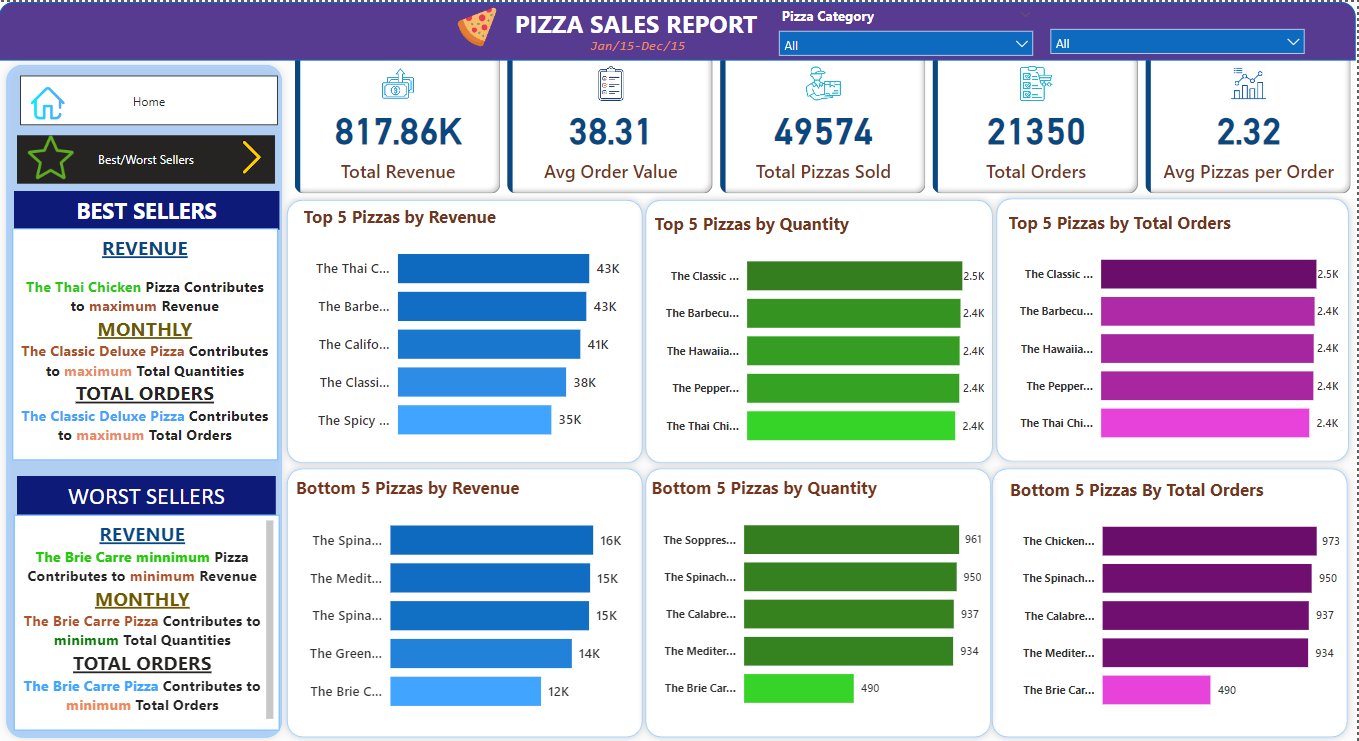

The page's visual inventory and layout, read from the dashboard file:
{"tool":"powerbi","page":{"name":"Best/Worst Sellers","canvas":[1500,820],"ordinal":1},"visuals":[{"type":"shape","box":[0,60.9,320.9,759.8],"z":0},{"type":"cardVisual","fields":{"Data":["pizza_sales.Total Revenue","pizza_sales.Avg Order Value","pizza_sales.Total Pizzas Sold","pizza_sales.Total Orders","pizza_sales.Avg Pizzas per Order"]},"box":[320.9,51.6,1178.4,166],"z":1000},{"type":"shape","box":[0,0,1499.3,64.5],"z":2000},{"type":"textbox","box":[497.9,0,413.1,49.8],"z":3000},{"type":"textbox","box":[592,33.2,171.5,31.4],"z":4000},{"type":"image","box":[477.6,0,101.4,55.3],"z":5000},{"type":"shape","box":[309.8,210.2,409.4,307],"z":6000},{"type":"textbox","box":[16.6,208.4,293.2,42.4],"z":7000},{"type":"textbox","box":[14.8,250.8,293.2,256.3],"z":8000},{"type":"textbox","box":[20.3,523.7,285.8,42.4],"z":9000},{"type":"textbox","box":[16.6,566.1,293.2,237.9],"z":10000},{"type":"slicer","fields":{"Values":["pizza_sales.pizza_category"]},"box":[852,0,300.6,60],"z":11000},{"type":"slicer","fields":{"Values":["pizza_sales.order_date.Variation.Date Hierarchy.Year","pizza_sales.order_date.Variation.Date Hierarchy.Month","pizza_sales.order_date.Variation.Date Hierarchy.Day"]},"box":[1152.6,20.3,300.6,60.9],"z":12000},{"type":"shape","box":[706.3,210.2,400.2,307],"z":13000},{"type":"shape","box":[1093.6,208.4,405.7,307],"z":14000},{"type":"shape","box":[309.8,507.1,409.4,313.5],"z":15000},{"type":"shape","box":[1089.9,507.1,409.4,313.5],"z":16000},{"type":"shape","box":[706.3,507.1,398,313.5],"z":17000},{"type":"barChart","title":"Top 5 Pizzas by Revenue ","fields":{"Category":["pizza_sales.pizza_name"],"Y":["pizza_sales.Total Revenue"]},"box":[331.9,223.1,383.6,276.6],"z":18000},{"type":"barChart","title":"Bottom 5 Pizzas by Revenue ","fields":{"Category":["pizza_sales.pizza_name"],"Y":["pizza_sales.Total Revenue"]},"box":[322.7,523.7,383.6,276.6],"z":19000},{"type":"barChart","title":"Top 5 Pizzas by Quantity","fields":{"Category":["pizza_sales.pizza_name"],"Y":["pizza_sales.Total Pizzas Sold"]},"box":[719.7,232.5,374.3,274.6],"z":20000},{"type":"barChart","title":"Bottom 5 Pizzas by Quantity","fields":{"Category":["pizza_sales.pizza_name"],"Y":["pizza_sales.Total Pizzas Sold"]},"box":[715.5,523.7,374.4,272.9],"z":21000},{"type":"barChart","title":"Top 5 Pizzas by Total Orders","fields":{"Category":["pizza_sales.pizza_name"],"Y":["pizza_sales.Total Pizzas Sold"]},"box":[1110.2,230.5,374.4,272.9],"z":22000},{"type":"barChart","title":"Bottom 5 Pizzas By Total Orders","fields":{"Category":["pizza_sales.pizza_name"],"Y":["pizza_sales.Total Pizzas Sold"]},"box":[1112,525.6,374.4,272.9],"z":23000},{"type":"pageNavigator","box":[20.3,147.5,285.8,53.5],"z":23001},{"type":"pageNavigator","box":[24,81.1,285.8,55.3],"z":23002},{"type":"image","box":[249,147.5,60.9,47.9],"z":23003},{"type":"image","box":[24,88.5,60.9,47.9],"z":23004},{"type":"image","box":[25.8,140.2,60.9,60.9],"z":23005}]}

Visuals, with their boxes in screenshot pixels (x1, y1, x2, y2), scaled from the page's 1500x820 canvas onto the 1359x741 screenshot:
shape: (left=0, top=55, right=291, bottom=740)
cardVisual - pizza_sales.Total Revenue x pizza_sales.Avg Order Value: (left=291, top=47, right=1358, bottom=197)
shape: (left=0, top=0, right=1358, bottom=58)
textbox: (left=451, top=0, right=825, bottom=45)
textbox: (left=536, top=30, right=692, bottom=58)
image: (left=433, top=0, right=525, bottom=50)
shape: (left=281, top=190, right=652, bottom=467)
textbox: (left=15, top=188, right=281, bottom=227)
textbox: (left=13, top=227, right=279, bottom=458)
textbox: (left=18, top=473, right=277, bottom=512)
textbox: (left=15, top=512, right=281, bottom=727)
slicer - pizza_sales.pizza_category: (left=772, top=0, right=1044, bottom=54)
slicer - pizza_sales.order_date.Variation.Date Hierarchy.Year x pizza_sales.order_date.Variation.Date Hierarchy.Month: (left=1044, top=18, right=1317, bottom=73)
shape: (left=640, top=190, right=1002, bottom=467)
shape: (left=991, top=188, right=1358, bottom=466)
shape: (left=281, top=458, right=652, bottom=740)
shape: (left=987, top=458, right=1358, bottom=740)
shape: (left=640, top=458, right=1000, bottom=740)
"Top 5 Pizzas by Revenue " barChart: (left=301, top=202, right=648, bottom=452)
"Bottom 5 Pizzas by Revenue " barChart: (left=292, top=473, right=640, bottom=723)
"Top 5 Pizzas by Quantity" barChart: (left=652, top=210, right=991, bottom=458)
"Bottom 5 Pizzas by Quantity" barChart: (left=648, top=473, right=987, bottom=720)
"Top 5 Pizzas by Total Orders" barChart: (left=1006, top=208, right=1345, bottom=455)
"Bottom 5 Pizzas By Total Orders" barChart: (left=1007, top=475, right=1347, bottom=722)
pageNavigator: (left=18, top=133, right=277, bottom=182)
pageNavigator: (left=22, top=73, right=281, bottom=123)
image: (left=226, top=133, right=281, bottom=177)
image: (left=22, top=80, right=77, bottom=123)
image: (left=23, top=127, right=79, bottom=182)
